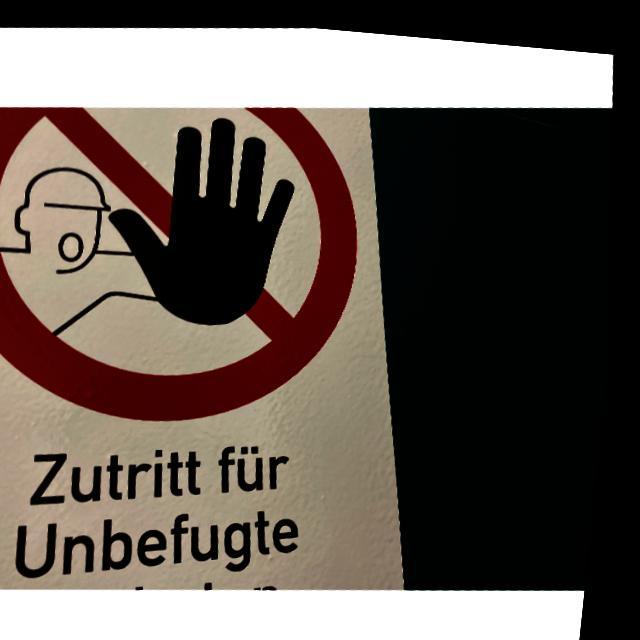No access for unauthorized persons: (0, 75, 388, 448)
